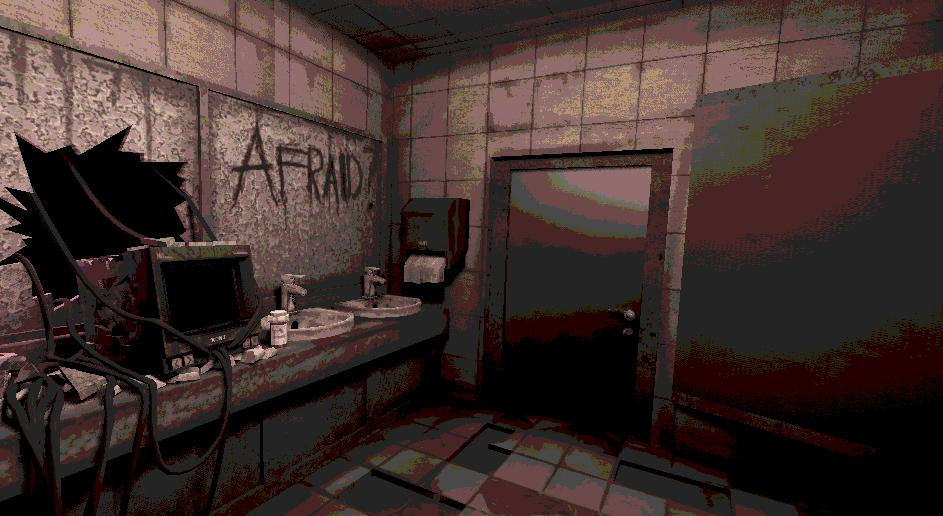door: (491, 150, 668, 440)
